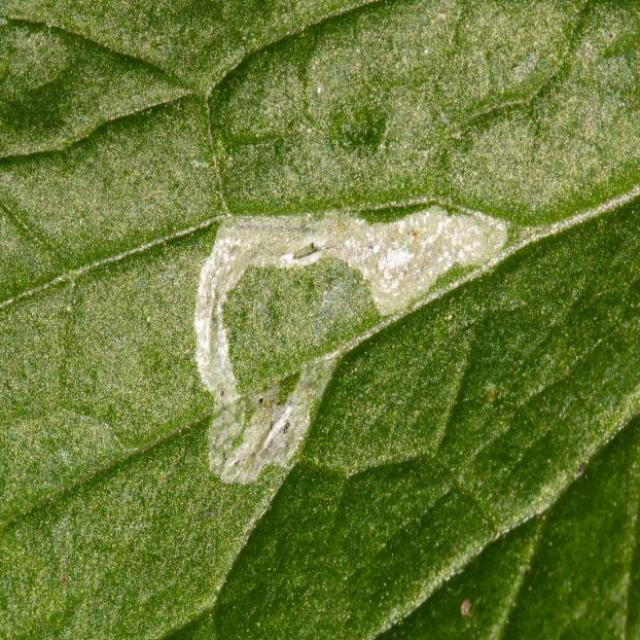Serpentine leafminer: (183, 195, 518, 505)
